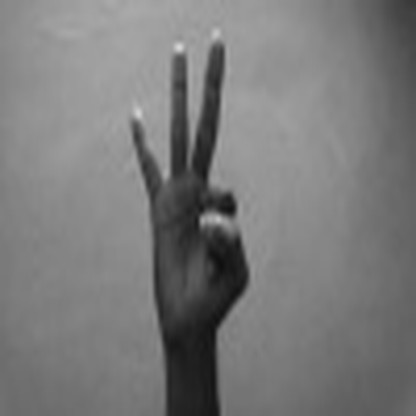f: (115, 19, 258, 330)
